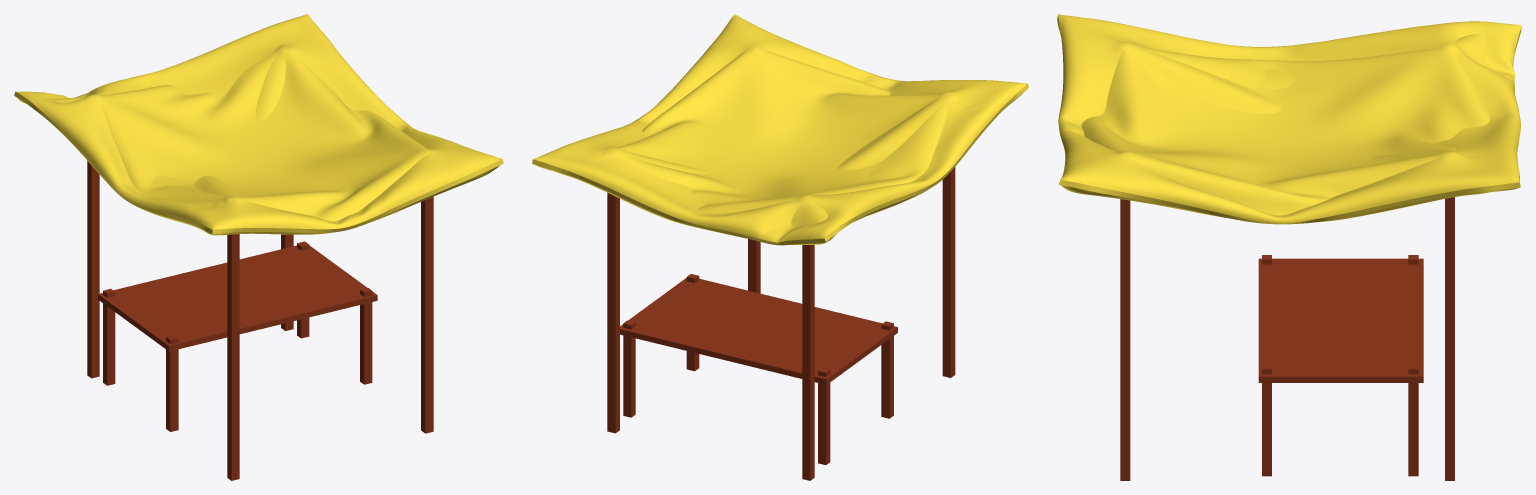
File: jumper_marketstal01l.FBX
3 views of the same model, side by side, from view 1: azimuth 30°, elevation 25°; view 2: azimuth 150°, elevation 25°; view 3: azimuth 270°, elevation 25° (orthographic). The views are drawn at different scales.
Parts seen in each view (by area): view 1: Box010, Box001, pole 4, pole 3, pole 2, Box004, Box003, Box005; view 2: Box010, Box001, pole 1, pole 2, pole 4, Box005, Box002, Box004, pole 3; view 3: Box010, Box001, pole 3, pole 1, Box002, Box003.
Part boxes in pixels (<box>): Box010: <box>14,14,503,235</box>; Box001: <box>98,245,377,351</box>; pole 4: <box>227,234,239,480</box>; pole 3: <box>421,196,433,433</box>; pole 2: <box>87,161,99,378</box>; Box004: <box>166,335,178,431</box>; Box003: <box>360,287,372,384</box>; Box005: <box>103,288,115,385</box>; Box010: <box>532,14,1028,245</box>; Box001: <box>620,278,897,384</box>; pole 1: <box>607,193,619,433</box>; pole 2: <box>802,245,814,480</box>; pole 4: <box>942,167,955,377</box>; Box005: <box>818,367,830,464</box>; Box002: <box>623,320,635,417</box>; Box004: <box>881,321,893,418</box>; pole 3: <box>748,239,760,293</box>; Box010: <box>1057,14,1521,224</box>; Box001: <box>1258,258,1423,382</box>; pole 3: <box>1120,199,1130,480</box>; pole 1: <box>1445,197,1454,480</box>; Box002: <box>1408,365,1418,476</box>; Box003: <box>1262,365,1271,476</box>.
Size of the model in its own units: 120 by 110 by 141.
